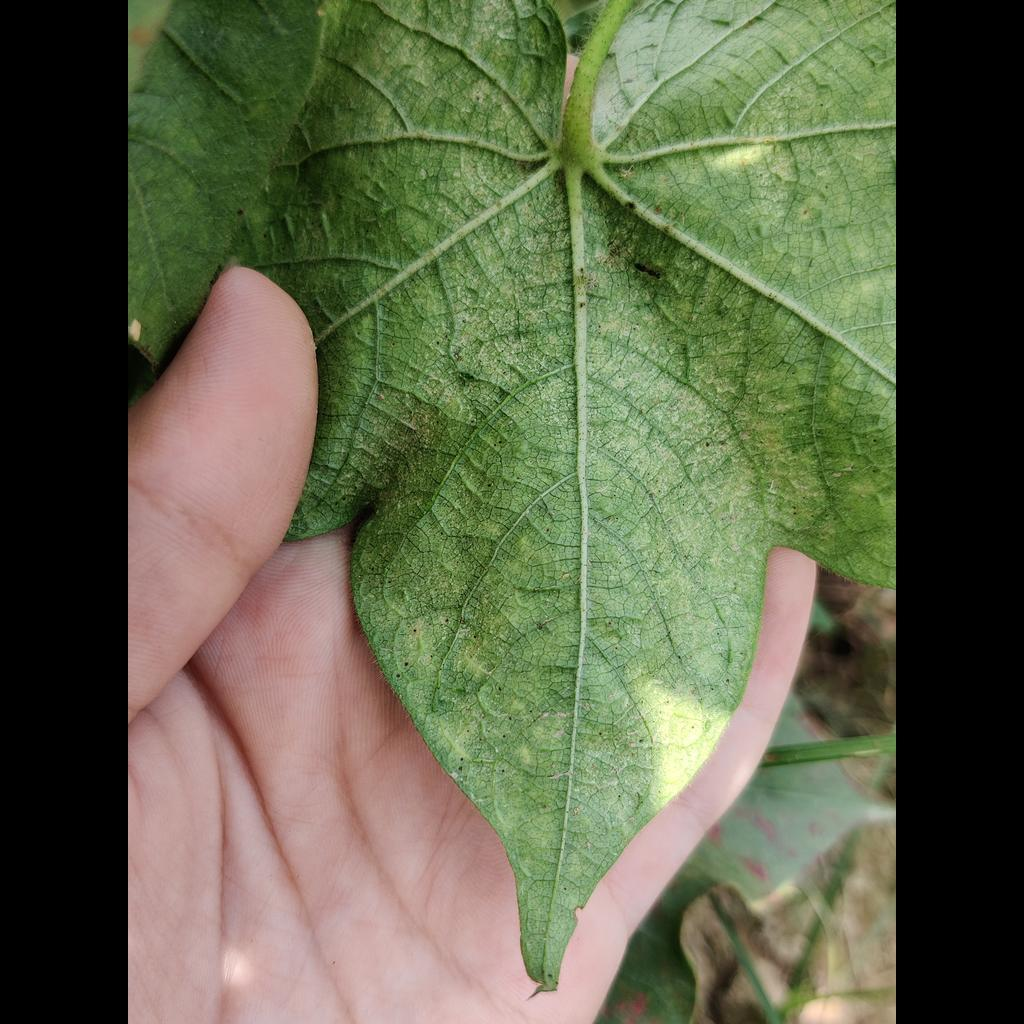nymph: (419, 168, 427, 179), (452, 168, 460, 177)
